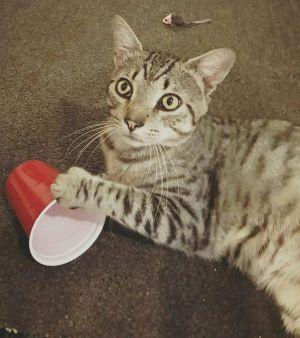bengal: (88, 4, 244, 158)
